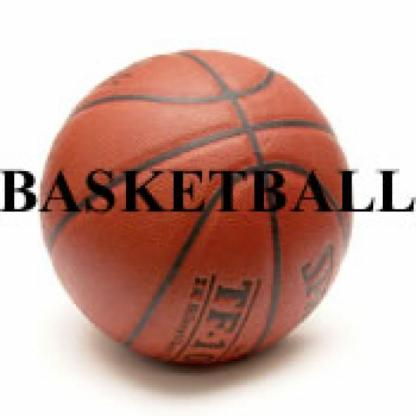basketball: (38, 47, 357, 364)
